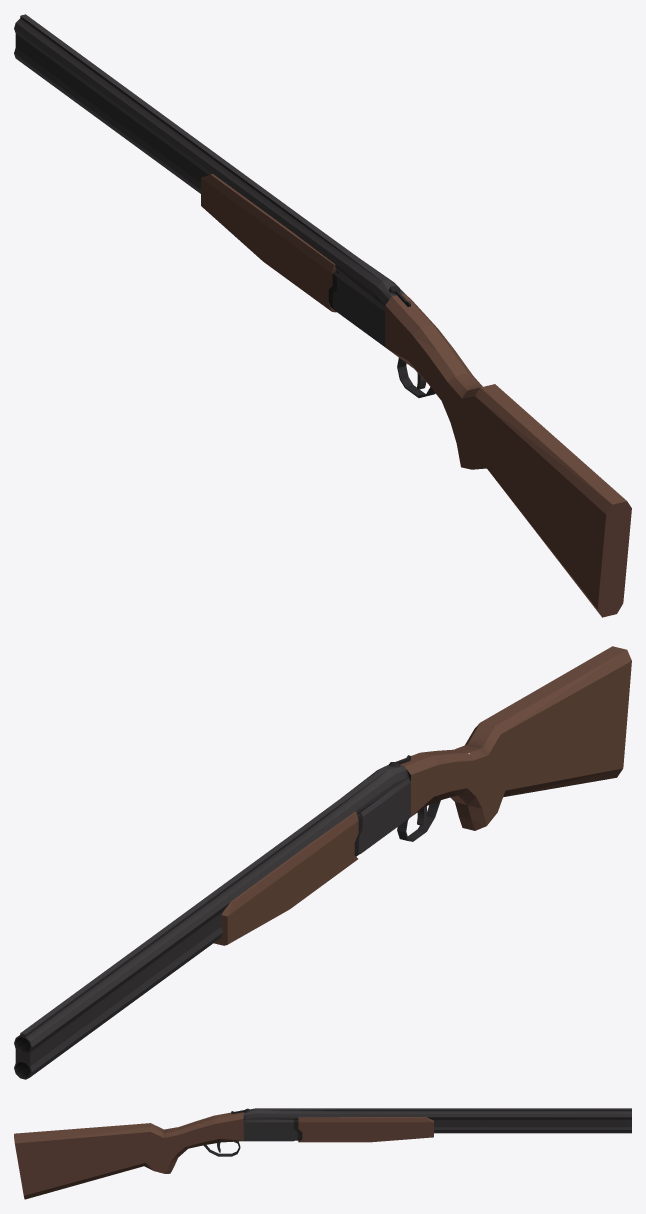
The model's file is toz34.glb.
3 views of the same model, one above another, from view 1: azimuth 30°, elevation 25°; view 2: azimuth 150°, elevation 25°; view 3: azimuth 270°, elevation 25° (orthographic). The views are drawn at different scales.
Visible parts, largest first — view 1: Stock_Full_Double_Barrel_Shotgun_mat_0, Barrel_Long_Double_Barrel_Shotgun_mat_0, Body_Standard_Double_Barrel_Shotgun_mat_0, Grip_Double_Barrel_Shotgun_mat_0; view 2: Stock_Full_Double_Barrel_Shotgun_mat_0, Barrel_Long_Double_Barrel_Shotgun_mat_0, Body_Standard_Double_Barrel_Shotgun_mat_0, Grip_Double_Barrel_Shotgun_mat_0; view 3: Stock_Full_Double_Barrel_Shotgun_mat_0, Barrel_Long_Double_Barrel_Shotgun_mat_0, Body_Standard_Double_Barrel_Shotgun_mat_0, Grip_Double_Barrel_Shotgun_mat_0.
Part boxes in pixels (<box>): Stock_Full_Double_Barrel_Shotgun_mat_0: <box>447,373,631,617</box>; Barrel_Long_Double_Barrel_Shotgun_mat_0: <box>14,14,392,297</box>; Body_Standard_Double_Barrel_Shotgun_mat_0: <box>333,272,472,469</box>; Grip_Double_Barrel_Shotgun_mat_0: <box>201,174,337,312</box>; Stock_Full_Double_Barrel_Shotgun_mat_0: <box>455,646,631,811</box>; Barrel_Long_Double_Barrel_Shotgun_mat_0: <box>14,767,396,1079</box>; Body_Standard_Double_Barrel_Shotgun_mat_0: <box>358,749,497,853</box>; Grip_Double_Barrel_Shotgun_mat_0: <box>214,811,362,945</box>; Stock_Full_Double_Barrel_Shotgun_mat_0: <box>14,1123,178,1199</box>; Barrel_Long_Double_Barrel_Shotgun_mat_0: <box>256,1108,631,1133</box>; Body_Standard_Double_Barrel_Shotgun_mat_0: <box>154,1108,297,1173</box>; Grip_Double_Barrel_Shotgun_mat_0: <box>293,1117,433,1142</box>.
Size of the model in its own units: 3.59 by 22.1 by 140.
1 material, 1 textured.
